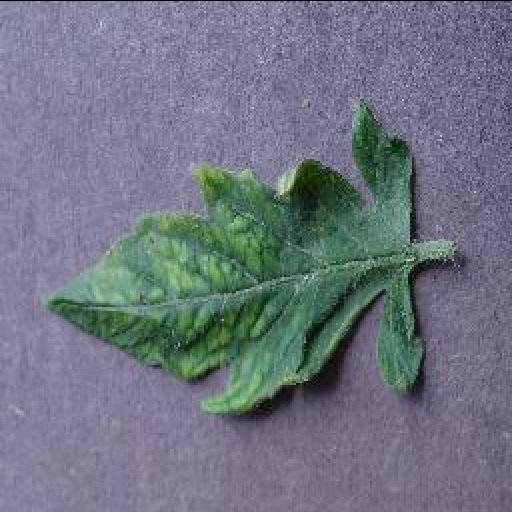Mosaic Virus: (43, 96, 429, 412)
